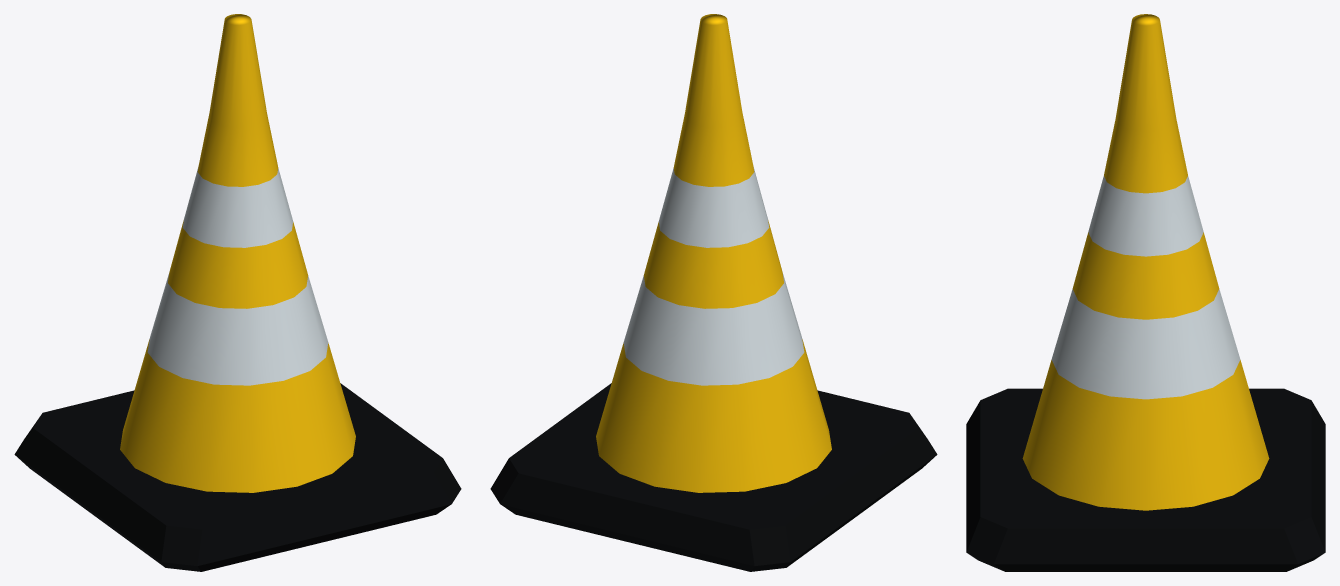
The picture shows the model from 3 angles, left to right: view 1: azimuth 30°, elevation 25°; view 2: azimuth 150°, elevation 25°; view 3: azimuth 270°, elevation 25°; orthographic projection. The views are drawn at different scales.
Parts seen in each view (by area): view 1: cone; view 2: cone; view 3: cone.
Boxes of the visible parts, x1,y1,x2,y2 form: cone: (14,14,461,571); cone: (490,14,937,571); cone: (966,14,1325,571).
Size of the model in its own units: 0.46 by 0.46 by 0.68.
